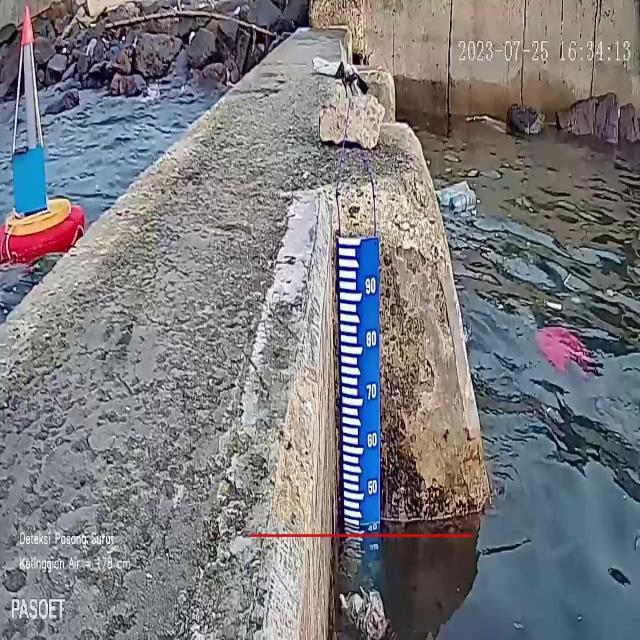50: (367, 478, 378, 495)
60: (367, 431, 377, 448)
70: (366, 382, 377, 400)
80: (365, 330, 378, 348)
90: (365, 276, 376, 296)
staff: (338, 237, 380, 533)
